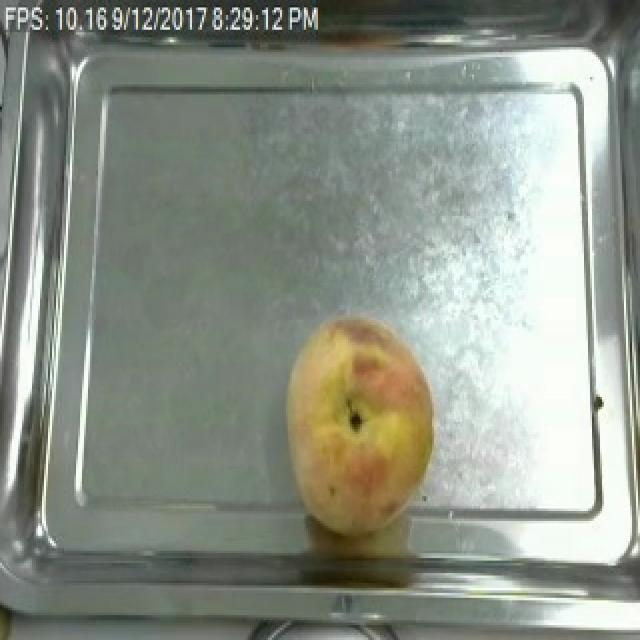Fruit: (274, 305, 448, 538)
